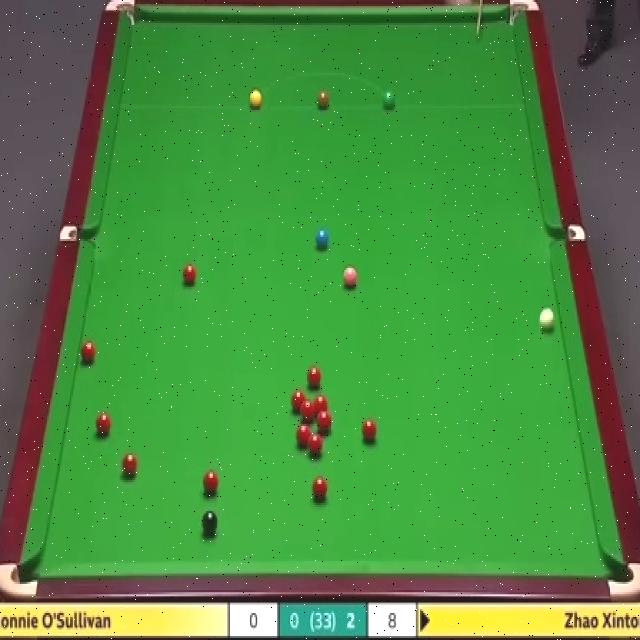black-ball: (202, 509, 220, 534)
blue-ball: (315, 226, 329, 253)
brown-ball: (316, 89, 330, 109)
green-ball: (382, 90, 396, 109)
pink-ball: (343, 268, 358, 291)
red-ball: (79, 340, 98, 367), (121, 450, 138, 479), (92, 409, 110, 436), (360, 418, 378, 444), (290, 387, 308, 413), (312, 476, 329, 502), (203, 469, 220, 494), (305, 366, 324, 388), (296, 422, 311, 448), (313, 396, 329, 420), (316, 421, 332, 444), (300, 400, 316, 422), (182, 266, 197, 284), (309, 411, 323, 429)
white-ball: (538, 307, 555, 334)
yellow-ball: (248, 89, 262, 109)
